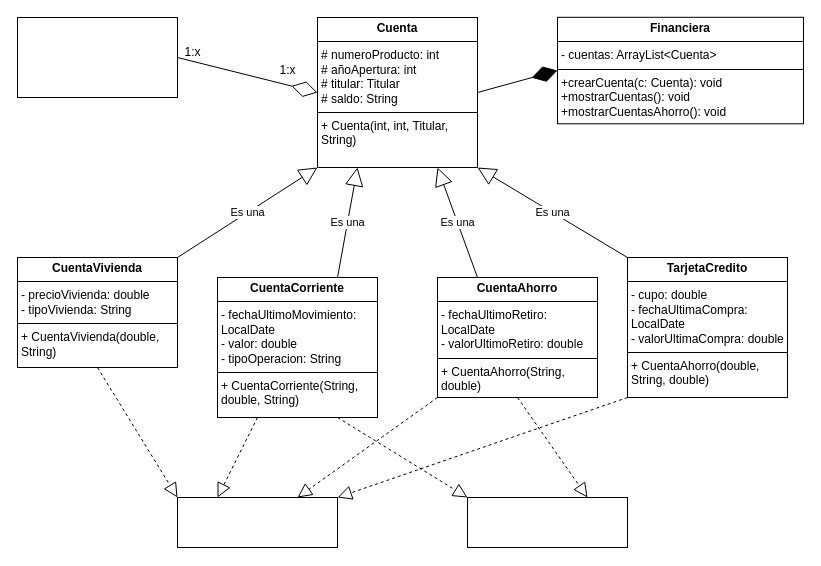
This 821x566 diagram has some shape labels left out. The shapes that lost their labels are listed below. From the top down, each one's centre as x and y in pixels, then its label:
At (97,57): "Titular + id: int + nombre: String + correo: String".
At (257,522): "IDepositable + deposito()".
At (547,522): "IRetirable + retiro()".
